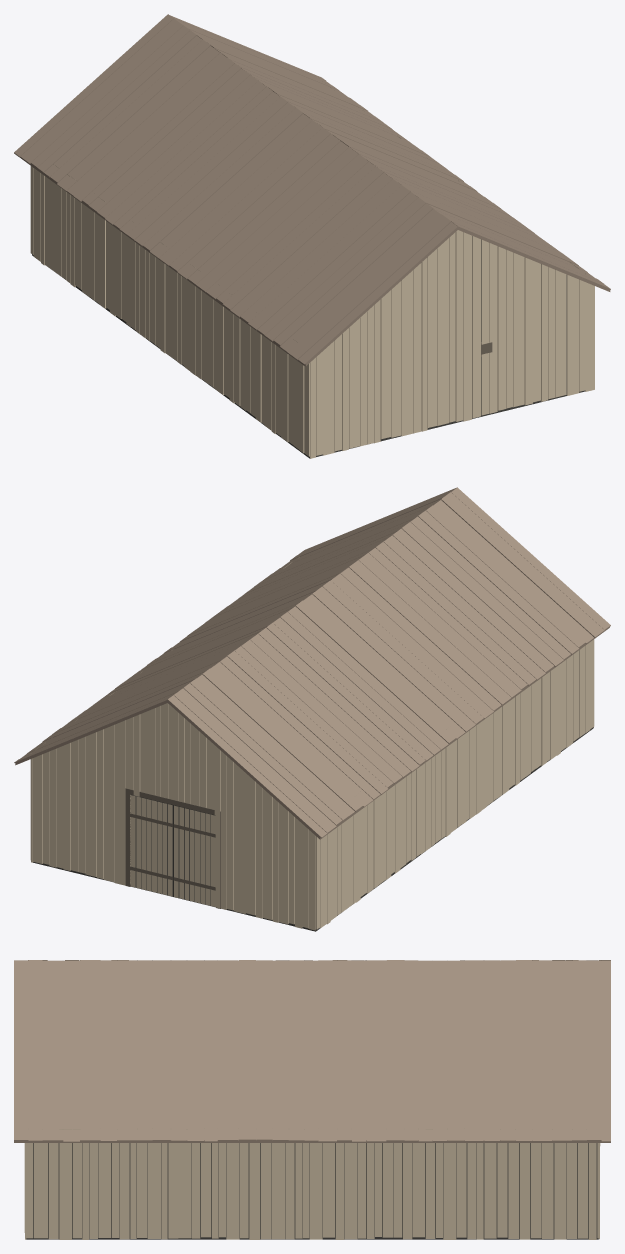
The model's file is recon_1835_north_w5_040__inferred_1835.glb.
3 views of the same model, one above another, from view 1: azimuth 30°, elevation 25°; view 2: azimuth 150°, elevation 25°; view 3: azimuth 270°, elevation 25° (orthographic). The views are drawn at different scales.
Visible parts, largest first — view 1: recon_1835_north_w5_040__inferred_1835; view 2: recon_1835_north_w5_040__inferred_1835; view 3: recon_1835_north_w5_040__inferred_1835.
Part boxes in pixels (x1,y1,x2,y2): recon_1835_north_w5_040__inferred_1835: [14, 14, 610, 458]; recon_1835_north_w5_040__inferred_1835: [14, 487, 610, 931]; recon_1835_north_w5_040__inferred_1835: [14, 960, 610, 1239].
Bounding box in the file's own units: 10.46 × 6.56 × 17.03.
